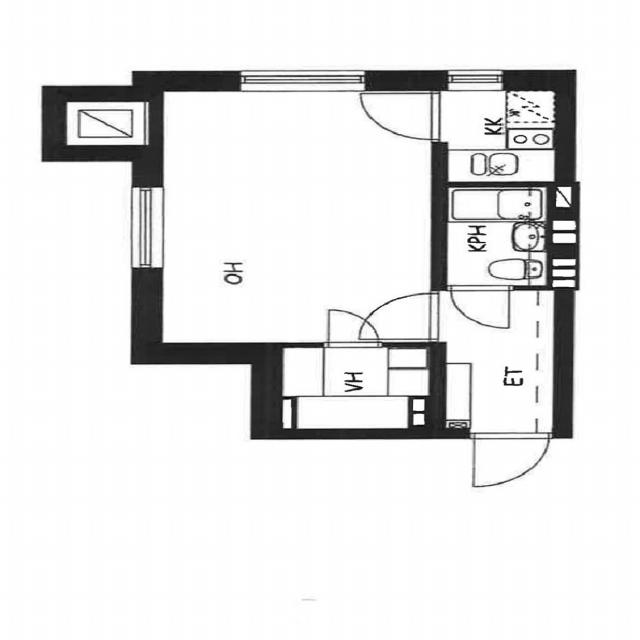door: (473, 432, 548, 487), (358, 94, 445, 140), (359, 294, 445, 340), (451, 284, 509, 328), (328, 310, 378, 348)
